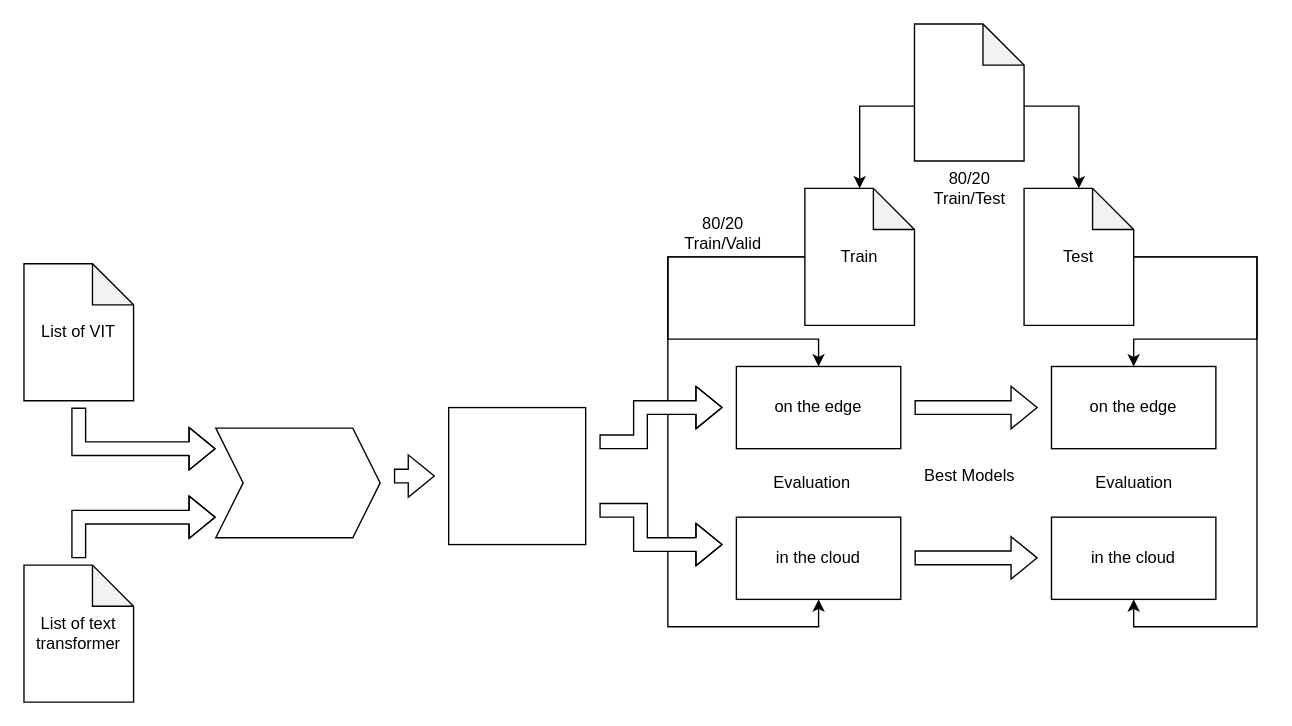
The diagram is 1292 pixels wide and 726 high, and some of its shapes have lost their labels. The box of each missing label's shape, as (x1, y1, x2, y2) in pixels:
Convert to ONNX: (214, 427, 380, 538)
Dataset Prepocessed: (913, 23, 1024, 161)
Load Transformers: (447, 406, 586, 545)
